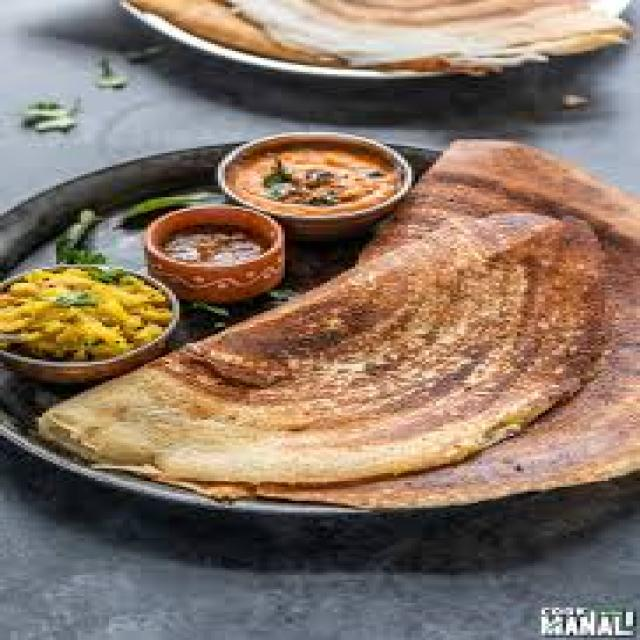DOSA: (39, 141, 636, 508)
